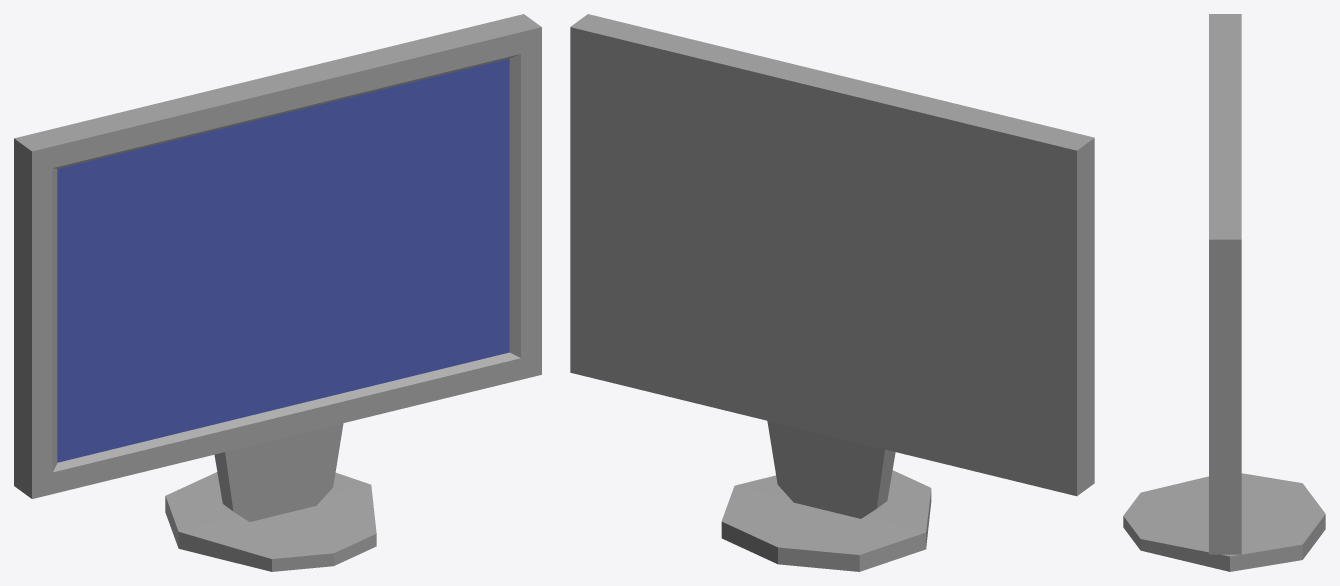
File: Screen_5.fbx
The picture shows the model from 3 angles, left to right: view 1: azimuth 30°, elevation 25°; view 2: azimuth 150°, elevation 25°; view 3: azimuth 270°, elevation 25°; orthographic projection. The views are drawn at different scales.
Parts seen in each view (by area): view 1: Screen_5; view 2: Screen_5; view 3: Screen_5.
Boxes of the visible parts, box(x1,y1,x2,y2) form: Screen_5: box(14, 14, 541, 571); Screen_5: box(570, 14, 1094, 571); Screen_5: box(1123, 14, 1325, 571).
Bounding box in the file's own units: 0.5583 × 0.4649 × 0.2117.
